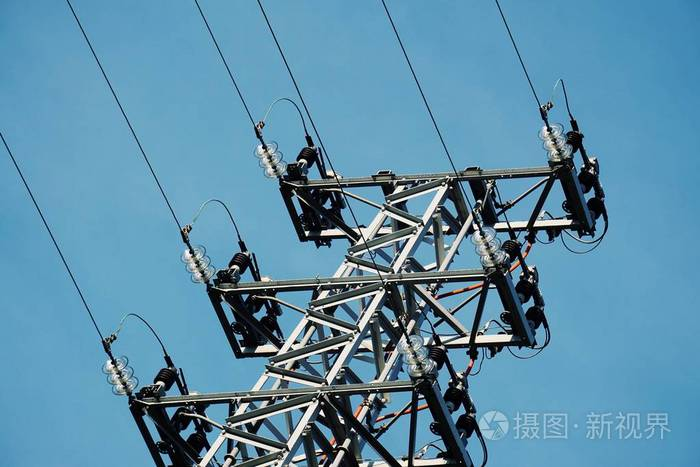insulator: (102, 354, 138, 396), (398, 336, 434, 377), (470, 227, 506, 267), (538, 125, 572, 163), (182, 246, 215, 284), (255, 141, 286, 178)
